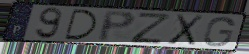9: (34, 6, 65, 40)
D: (63, 8, 99, 41)
G: (202, 16, 236, 48)
P: (97, 10, 138, 43)
X: (166, 13, 206, 47)
Z: (129, 11, 174, 45)
